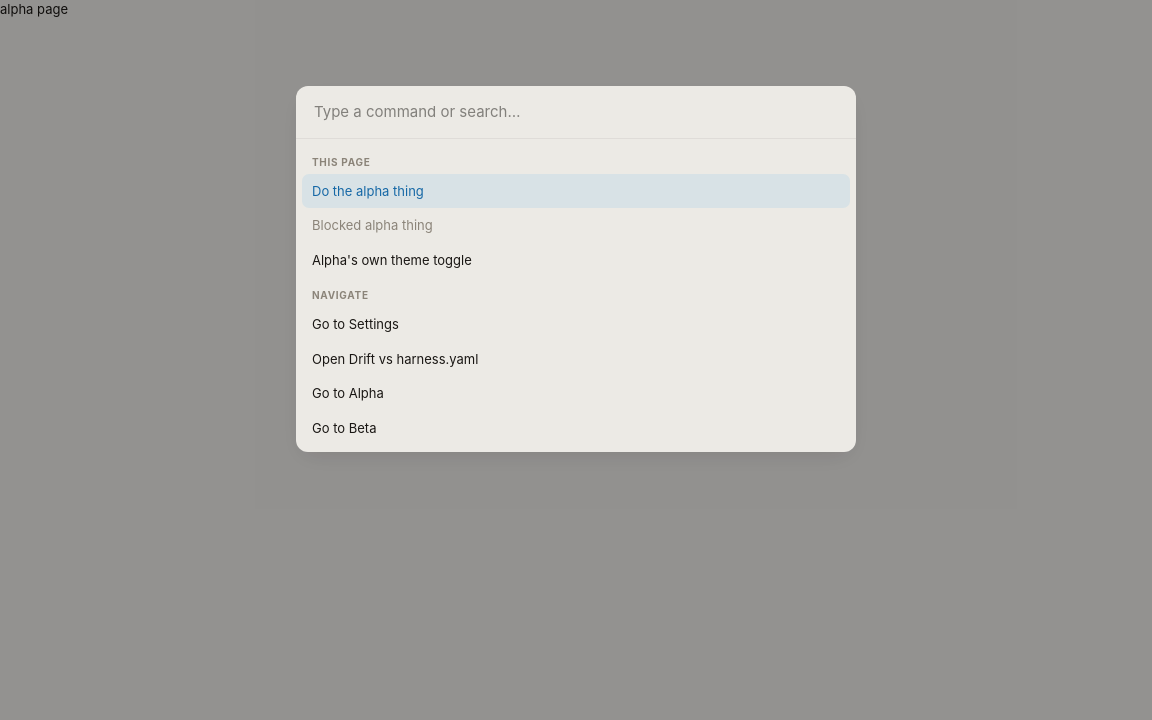
Test: CommandPalette page commands (AC-21) › lists a page's commands first, under This page, only while that page is mounted
This screenshot has width=1152, height=720.
Expected: the text "This page" is shown, [312, 156, 370, 168]
# Navigate away through the palette's own navigation command.
Click the button "Go to Beta": (344, 428) [302, 411, 850, 446]
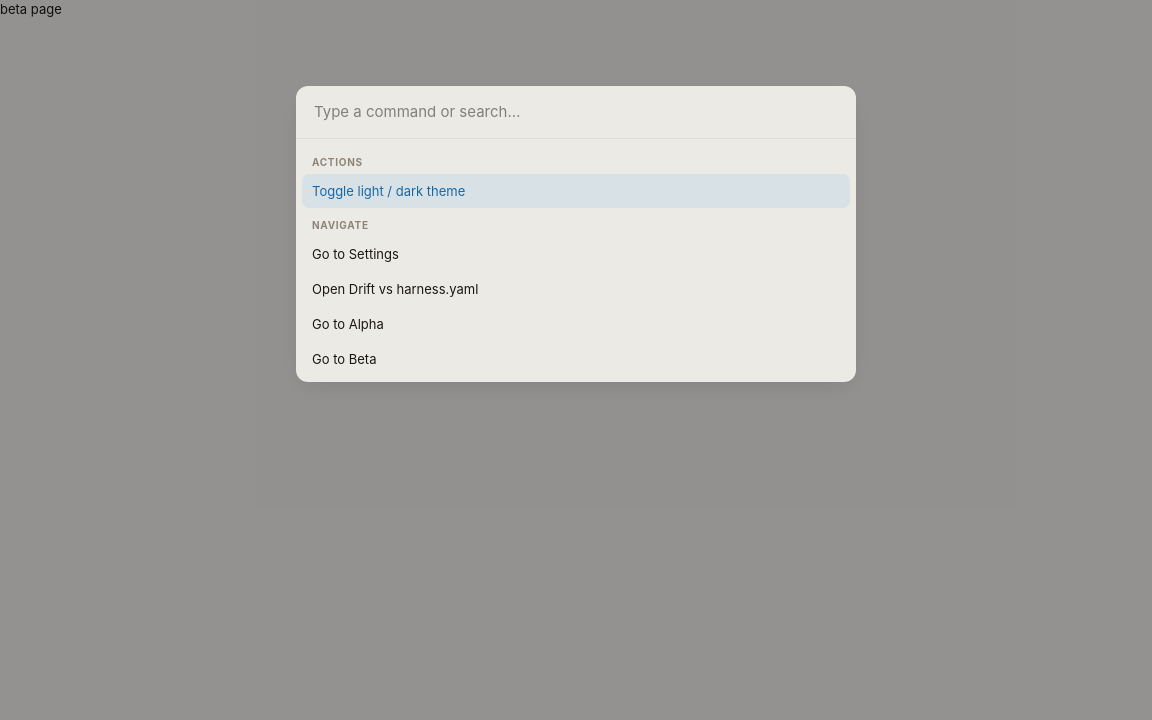
Result: the text "beta page" is shown at [0, 1, 62, 17]
Result: the button "Do the alpha thing" is gone
Result: the text "This page" is gone
